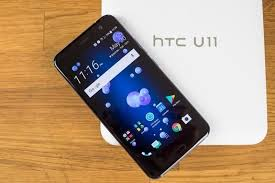htc: (48, 10, 212, 179)
